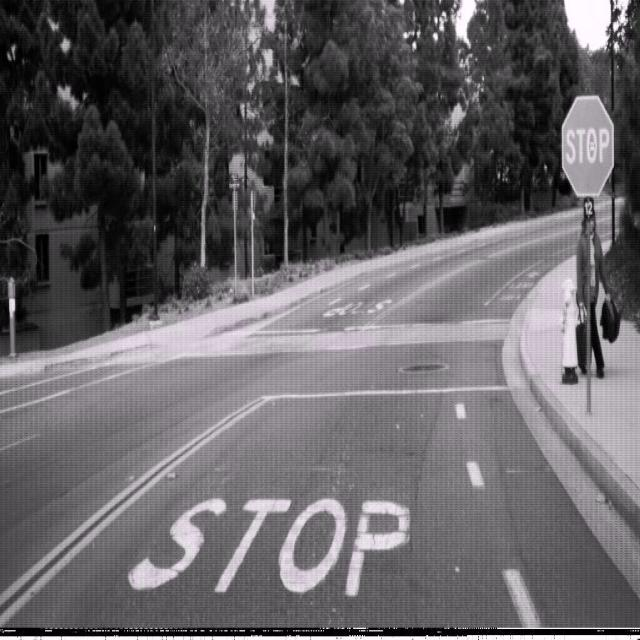stop_sign: (561, 94, 614, 198)
